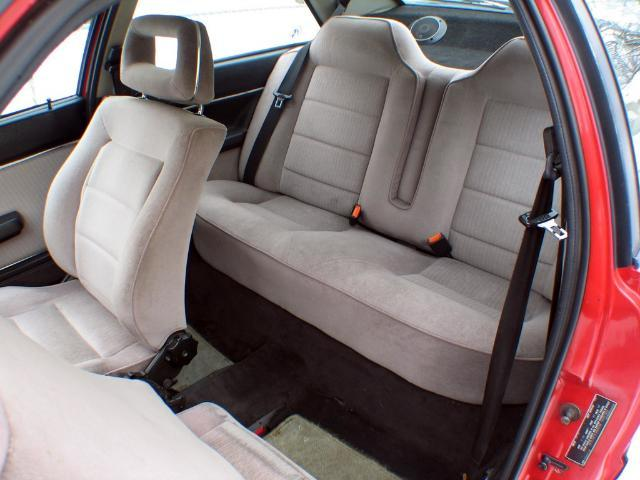Seatbelt: (470, 169, 570, 472), (240, 42, 316, 181)
